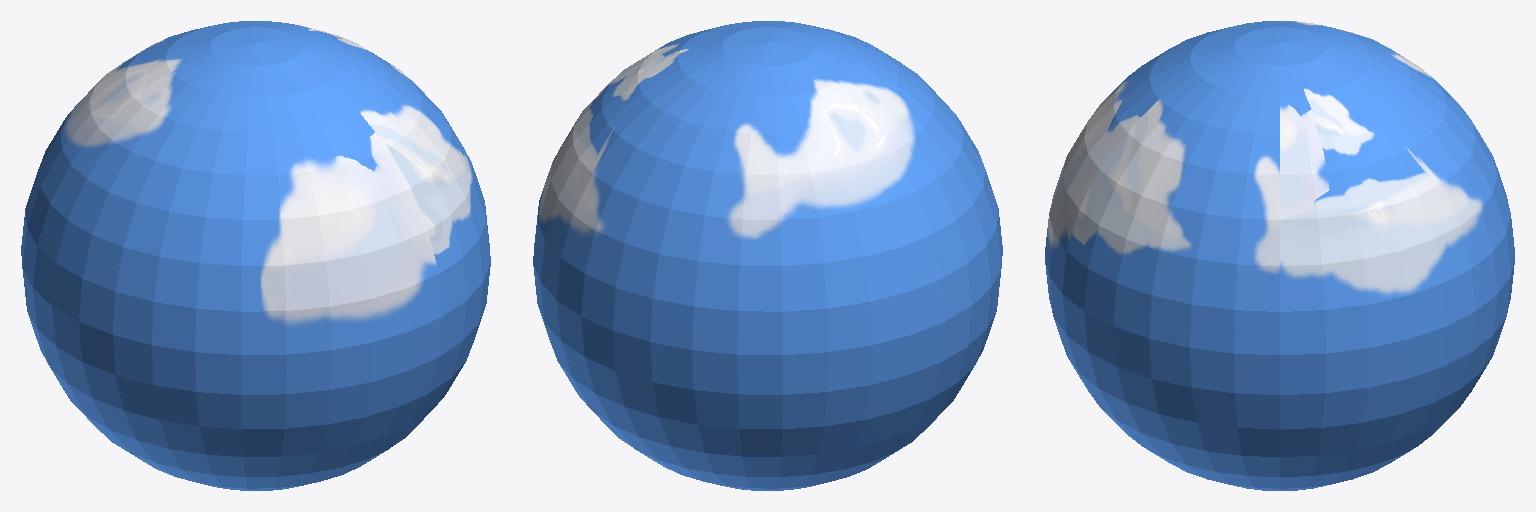
3 renders of one model, left to right at view 1: azimuth 30°, elevation 25°; view 2: azimuth 150°, elevation 25°; view 3: azimuth 270°, elevation 25°, orthographic.
Parts seen in each view (by area): view 1: 球; view 2: 球; view 3: 球.
Part boxes in pixels (bbox=[...]): 球: bbox=[21, 21, 490, 490]; 球: bbox=[533, 21, 1002, 490]; 球: bbox=[1045, 21, 1514, 490].
Bounding box in the file's own units: 2 × 2 × 2.
Materials: 1 (1 with a texture image).